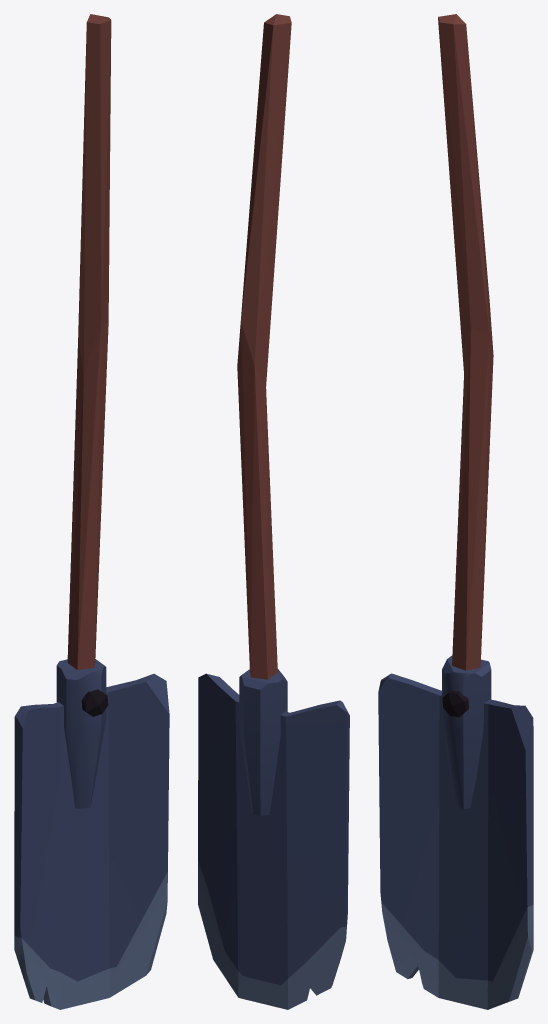
Rendered from Showel.fbx.
The picture shows the model from 3 angles, left to right: view 1: azimuth 30°, elevation 25°; view 2: azimuth 150°, elevation 25°; view 3: azimuth 330°, elevation 25°; orthographic projection. The views are drawn at different scales.
Visible parts, largest first — view 1: PoorMan Showel; view 2: PoorMan Showel; view 3: PoorMan Showel.
Boxes of the visible parts, bbox=[...] form: PoorMan Showel: bbox=[14, 14, 169, 1009]; PoorMan Showel: bbox=[198, 14, 349, 1009]; PoorMan Showel: bbox=[378, 14, 533, 1009].
Size of the model in its own units: 23.03 by 144 by 9.04.
